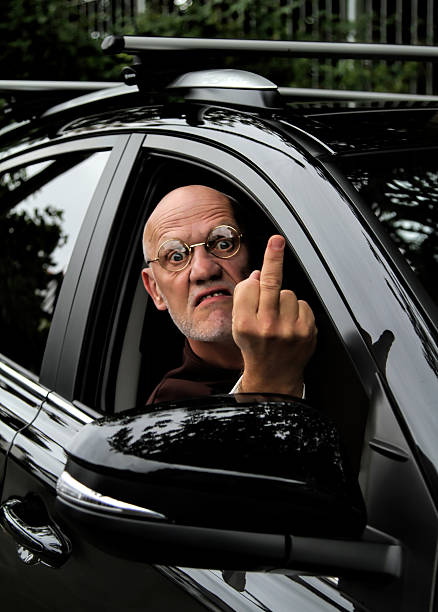insulting_gesture: (230, 232, 316, 397)
